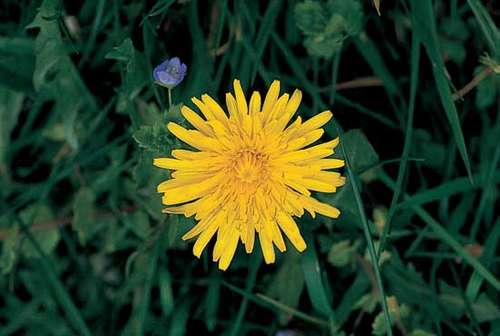dandelion: (160, 93, 323, 251)
